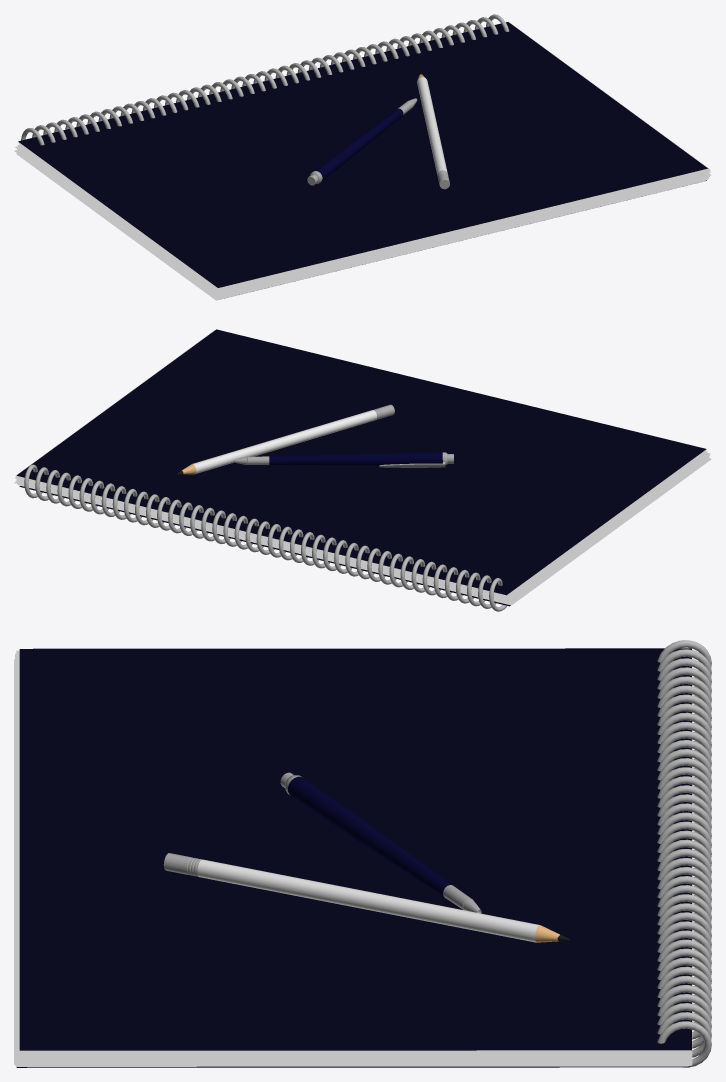
File: notepad.glb
3 views of the same model, one above another, from view 1: azimuth 30°, elevation 25°; view 2: azimuth 150°, elevation 25°; view 3: azimuth 270°, elevation 25° (orthographic). The views are drawn at different scales.
Parts seen in each view (by area): view 1: Top_Page, SM_spirals_main.003, Pen, SM_notebook_papers.119, Pencil, SM_notebook_papers.125, SM_notebook_papers.110, SM_notebook_papers.105, SM_notebook_papers.138, SM_notebook_papers.111, SM_notebook_papers.121, SM_notebook_papers.118 (+6 smaller); view 2: Top_Page, SM_spirals_main.003, Pen, Pencil, SM_notebook_papers.117, SM_notebook_papers.119, SM_notebook_papers.112, SM_notebook_papers.127, SM_notebook_papers.131, SM_notebook_papers.126, SM_notebook_papers.106, SM_notebook_papers.107 (+5 smaller); view 3: Top_Page, SM_spirals_main.003, Pencil, Pen, SM_notebook_papers.110, SM_notebook_papers.118, SM_notebook_papers.115, SM_notebook_papers.134, SM_notebook_papers.111, SM_notebook_papers.120, SM_notebook_papers.106, SM_notebook_papers.108 (+5 smaller).
Part boxes in pixels (x1=…): Top_Page: x1=18, y1=22, x2=707, y2=287; SM_spirals_main.003: x1=21, y1=14, x2=509, y2=145; Pen: x1=307, y1=98, x2=417, y2=185; SM_notebook_papers.119: x1=15, y1=146, x2=704, y2=293; Pencil: x1=417, y1=73, x2=449, y2=189; SM_notebook_papers.125: x1=18, y1=150, x2=707, y2=296; SM_notebook_papers.110: x1=102, y1=168, x2=709, y2=289; SM_notebook_papers.105: x1=16, y1=153, x2=705, y2=300; SM_notebook_papers.138: x1=217, y1=178, x2=708, y2=298; SM_notebook_papers.111: x1=220, y1=170, x2=710, y2=290; SM_notebook_papers.121: x1=216, y1=173, x2=706, y2=294; SM_notebook_papers.118: x1=220, y1=173, x2=710, y2=294; Top_Page: x1=17, y1=329, x2=706, y2=595; SM_spirals_main.003: x1=24, y1=464, x2=506, y2=611; Pen: x1=235, y1=452, x2=453, y2=467; Pencil: x1=176, y1=404, x2=394, y2=474; SM_notebook_papers.117: x1=18, y1=451, x2=707, y2=597; SM_notebook_papers.119: x1=508, y1=453, x2=710, y2=599; SM_notebook_papers.112: x1=17, y1=453, x2=706, y2=599; SM_notebook_papers.127: x1=19, y1=456, x2=709, y2=602; SM_notebook_papers.131: x1=20, y1=457, x2=710, y2=604; SM_notebook_papers.126: x1=17, y1=480, x2=508, y2=600; SM_notebook_papers.106: x1=15, y1=329, x2=505, y2=595; SM_notebook_papers.107: x1=17, y1=450, x2=706, y2=596; Top_Page: x1=19, y1=648, x2=691, y2=1050; SM_spirals_main.003: x1=657, y1=640, x2=711, y2=1067; Pencil: x1=163, y1=853, x2=569, y2=942; Pen: x1=280, y1=772, x2=481, y2=913; SM_notebook_papers.110: x1=16, y1=650, x2=688, y2=1052; SM_notebook_papers.118: x1=14, y1=659, x2=686, y2=1061; SM_notebook_papers.115: x1=17, y1=1055, x2=689, y2=1058; SM_notebook_papers.134: x1=19, y1=1056, x2=692, y2=1065; SM_notebook_papers.111: x1=15, y1=653, x2=686, y2=1055; SM_notebook_papers.120: x1=15, y1=1061, x2=687, y2=1063; SM_notebook_papers.106: x1=18, y1=1050, x2=690, y2=1053; SM_notebook_papers.108: x1=19, y1=1052, x2=691, y2=1054.
Size of the model in its own units: 0.3008 by 0.0179 by 0.218.
